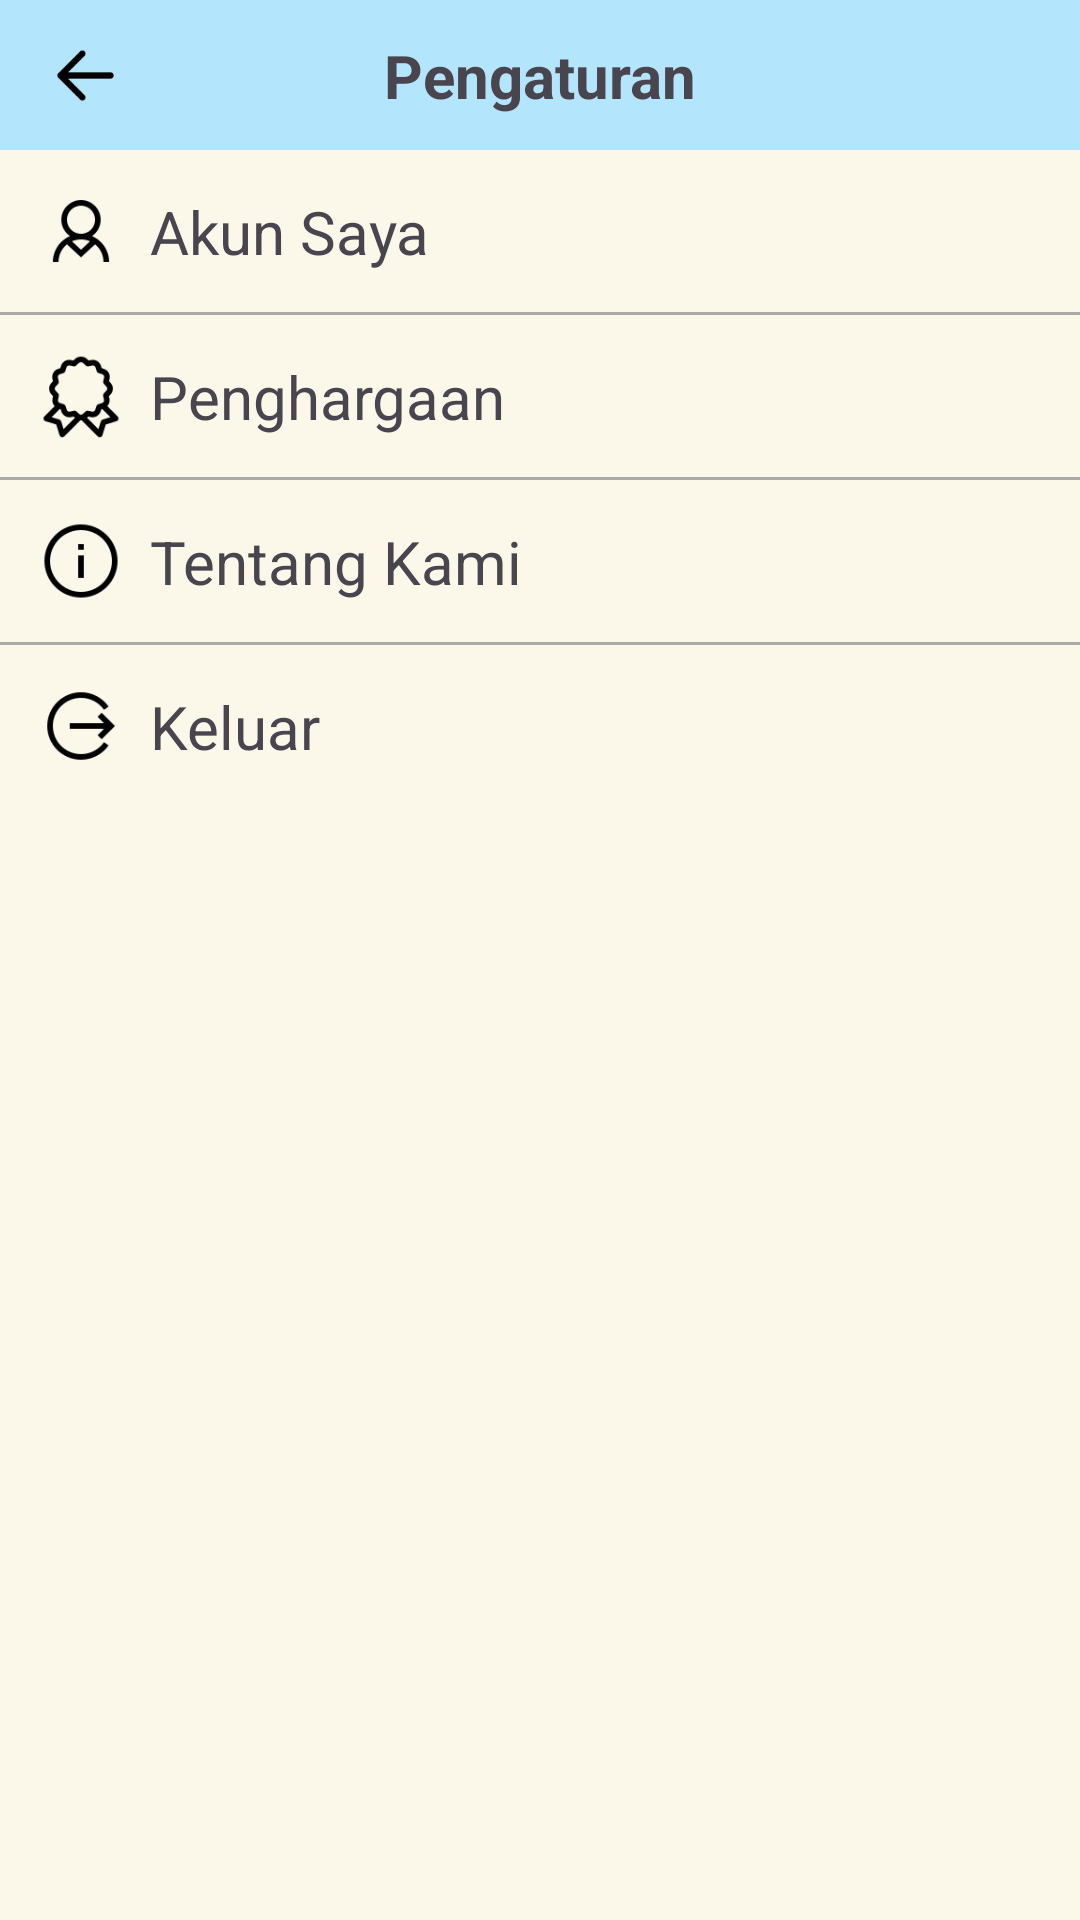

Icon click points for this 1080x1920 phone screenshot, format (x=x, y=y):
about us: (x=81, y=561)
account: (x=81, y=231)
achievement: (x=81, y=397)
arrow back: (x=85, y=75)
